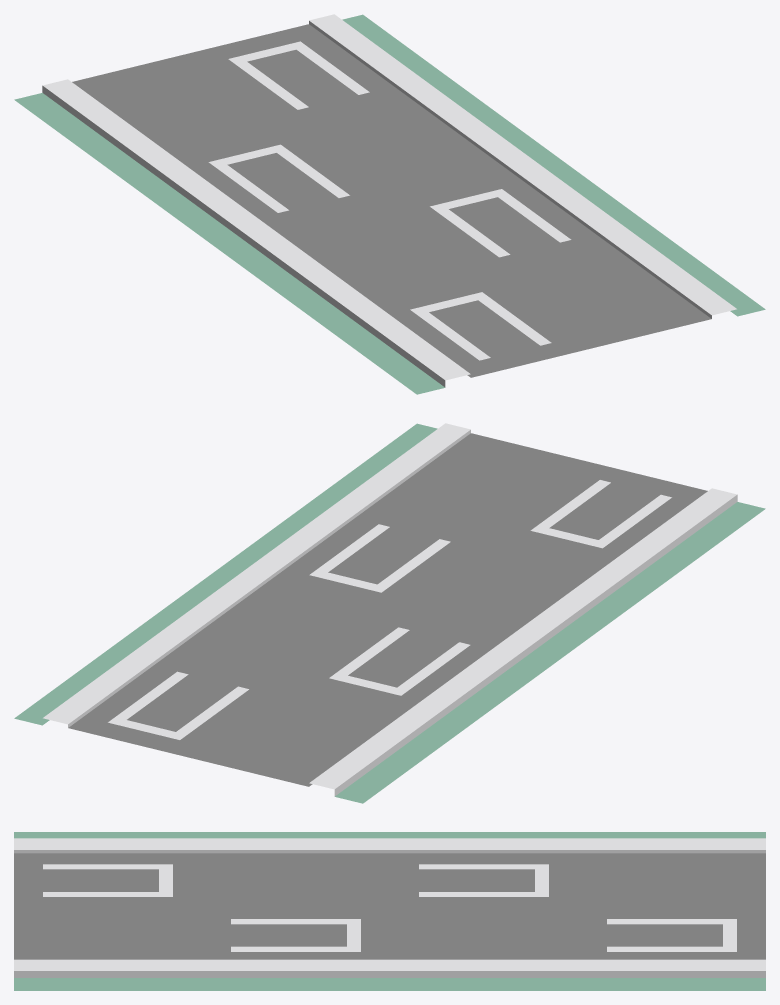
The model's file is roadStartPositions.glb.
3 views of the same model, one above another, from view 1: azimuth 30°, elevation 25°; view 2: azimuth 150°, elevation 25°; view 3: azimuth 270°, elevation 25° (orthographic). The views are drawn at different scales.
Parts seen in each view (by area): view 1: roadStartPositions(Clone); view 2: roadStartPositions(Clone); view 3: roadStartPositions(Clone).
Part boxes in pixels (x1,y1,x2,y2): roadStartPositions(Clone): (14,14,765,394); roadStartPositions(Clone): (14,423,765,803); roadStartPositions(Clone): (14,832,765,990).
Bounding box in the file's own units: 1 × 0.02 × 2.
Materials: 1 (1 with a texture image).
